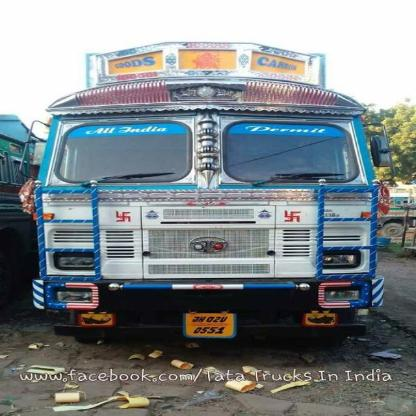truck: (31, 42, 383, 340)
